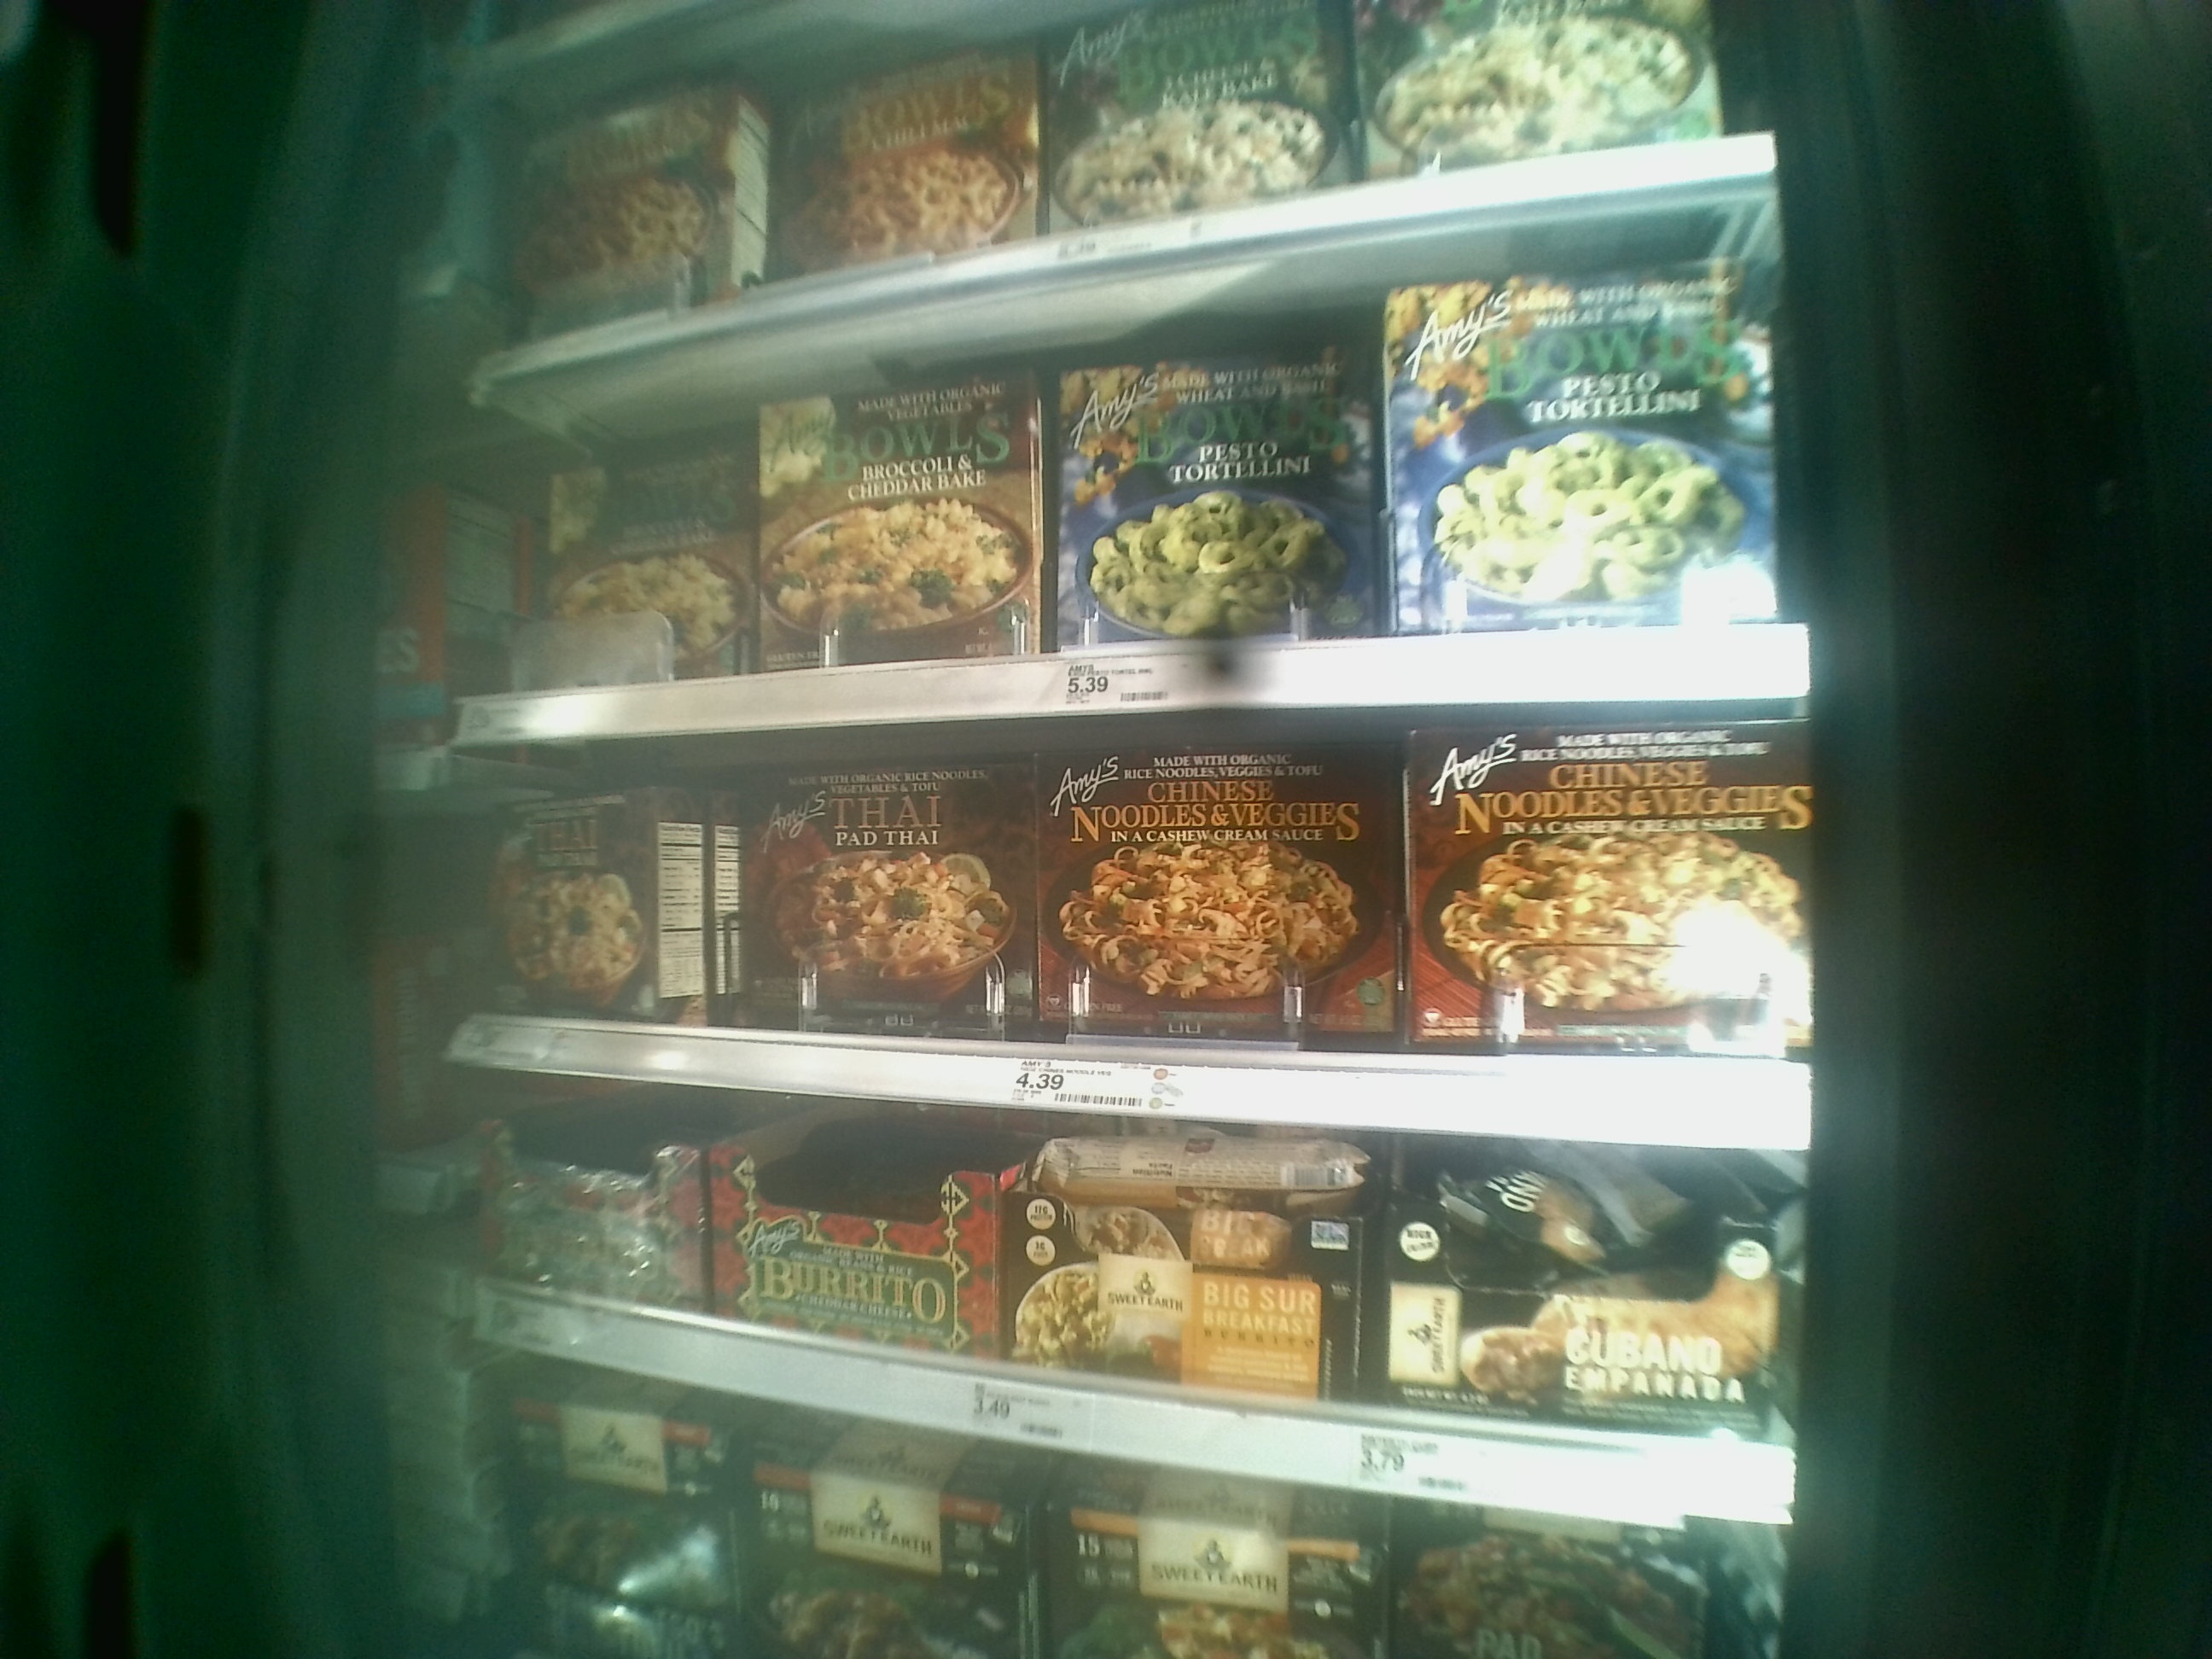frozen-food-shelf: (421, 748, 1817, 1145), (425, 1145, 1815, 1525), (444, 392, 1794, 744)
